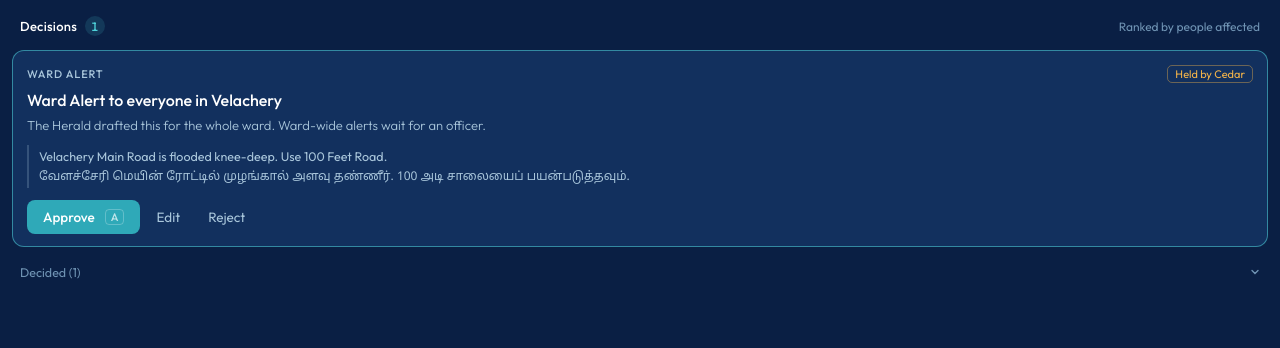
Test: decided Proposals collapse into a Decided row
Click the button "Decided (1)": (46, 272) x1=12 y1=255 x2=1268 y2=289
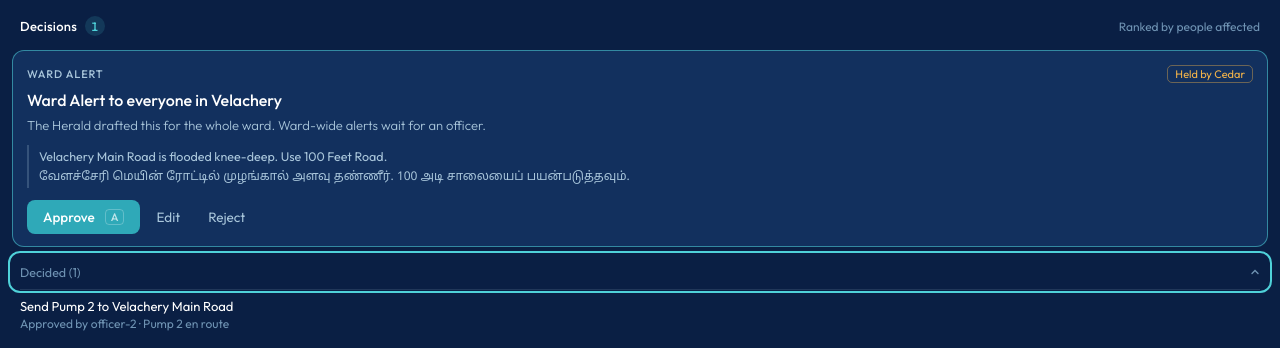
Check: the text "Send Pump 2 to Velachery Main Road" is shown, box x1=20 y1=298 x2=233 y2=314
Check: the text "Approved by officer-2 · Pump 2 en route" is shown, box x1=20 y1=316 x2=229 y2=331
